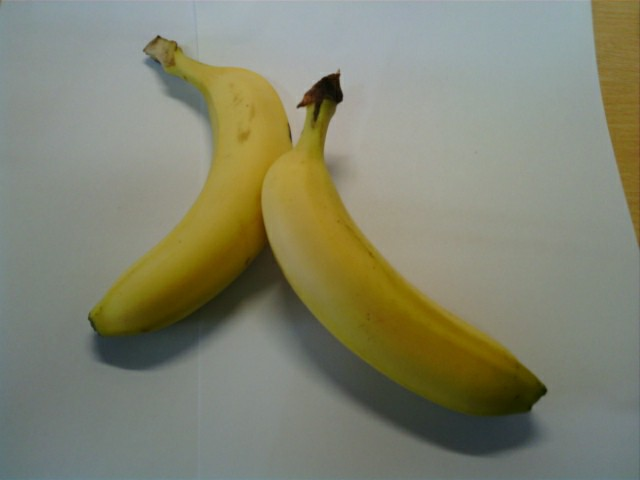fresh_banana: (263, 139, 547, 422), (82, 62, 296, 343)
